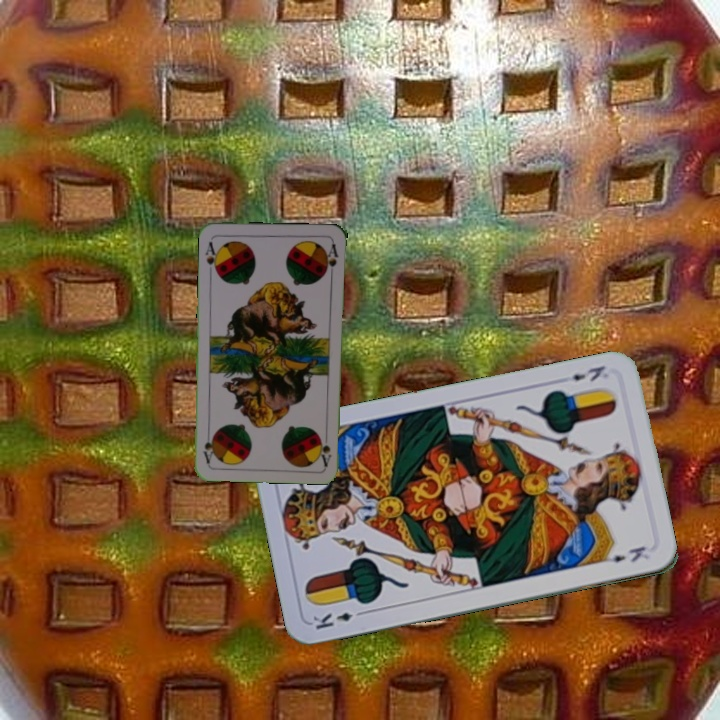EK: (309, 606, 368, 632), (567, 361, 608, 384)
SA: (201, 238, 221, 277), (317, 428, 334, 468)
